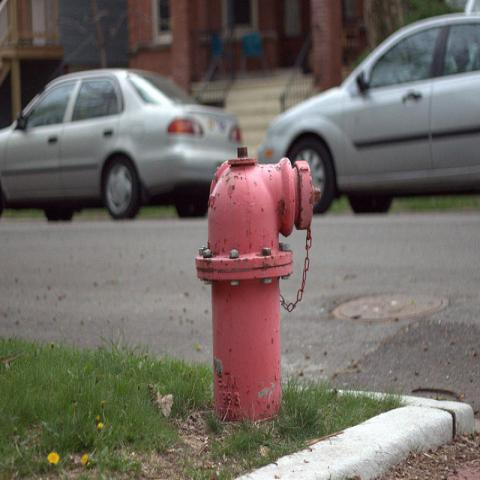car: (256, 10, 479, 214), (0, 66, 242, 217)
